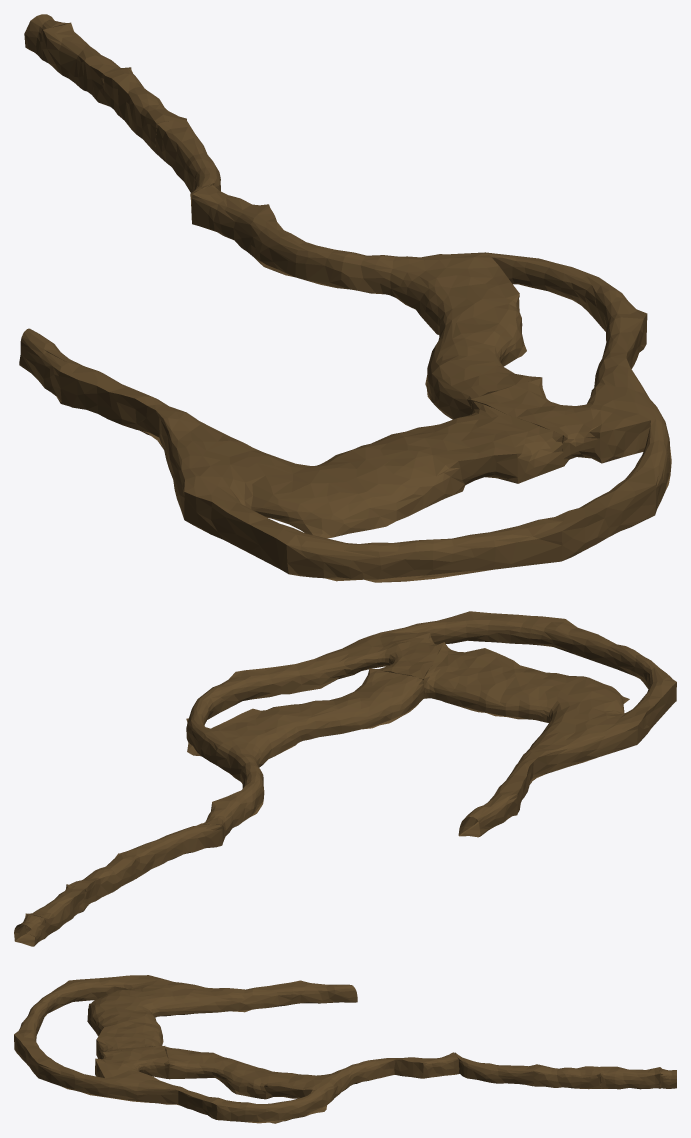
Rendered from CaveGOOD.glb.
3 views of the same model, one above another, from view 1: azimuth 30°, elevation 25°; view 2: azimuth 150°, elevation 25°; view 3: azimuth 270°, elevation 25° (orthographic). The views are drawn at different scales.
Parts seen in each view (by area): view 1: CaveMesh-col.001; view 2: CaveMesh-col.001; view 3: CaveMesh-col.001.
Boxes of the visible parts, x1,y1,x2,y2 form: CaveMesh-col.001: (19, 14, 671, 582); CaveMesh-col.001: (14, 611, 676, 946); CaveMesh-col.001: (14, 975, 676, 1123).
Size of the model in its own units: 37.59 by 2.99 by 79.13.
